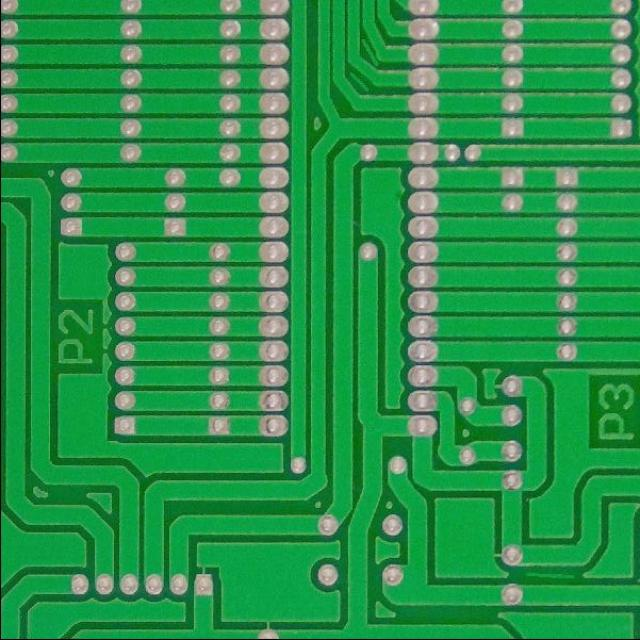Spurious_Cooper: (343, 64, 374, 94), (521, 566, 578, 582), (359, 36, 380, 66)
